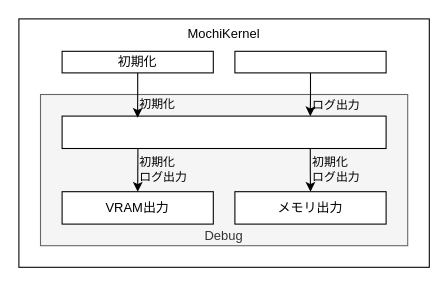
Image size: 448x286. Some labels were removed from this diagram. Here are the shapes that lost their labels. From the top down, the centre of each, then its label:
[310,61]: 各モジュール
[223,131]: メイン
